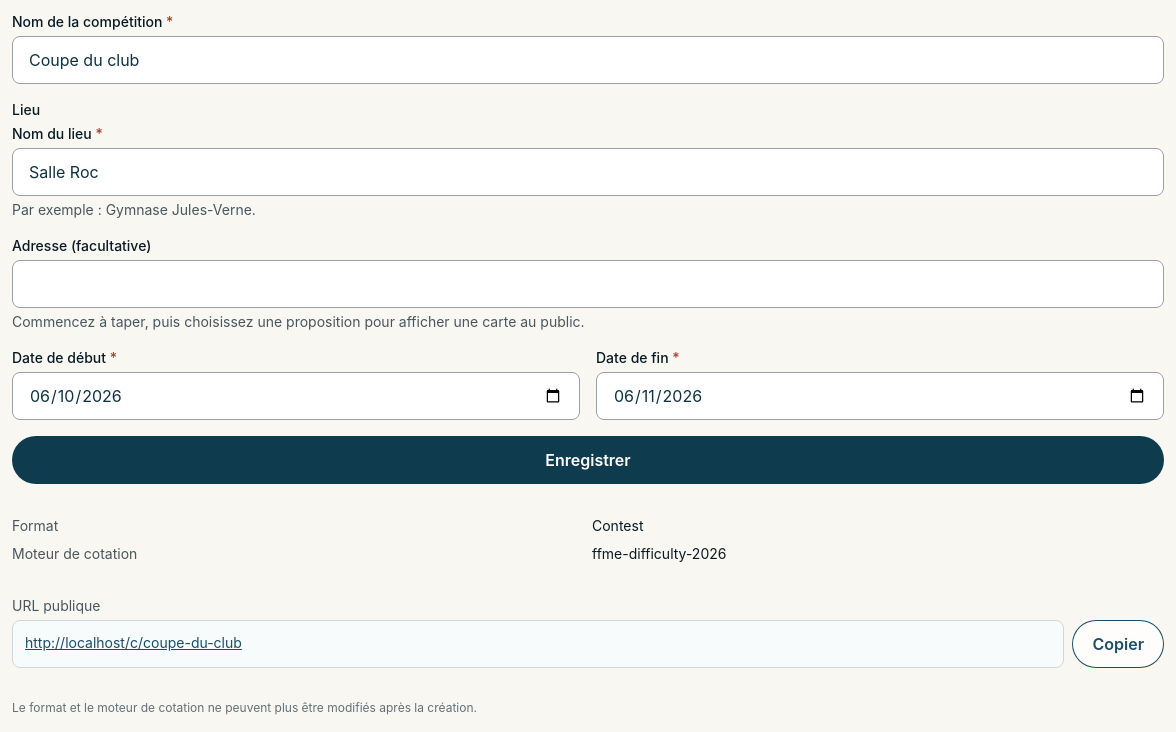
Scenario: InfosTab — date de fin › suit la date de début quand celle-ci change
Type "2026-07-04" into the date field labelled "Date de début *".
click(296, 396); type("2026-07-04")  # box [12,372,580,420]
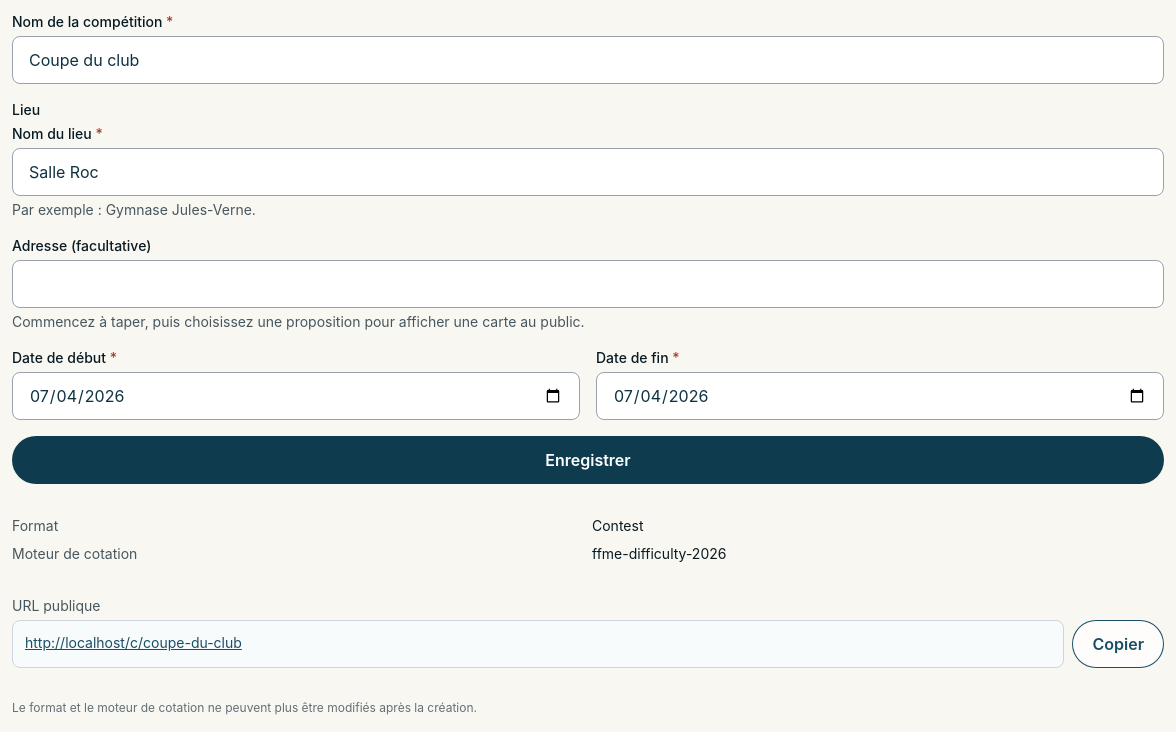
Result: the date field labelled "Date de fin *" holds "2026-07-04" at [596,372,1164,420]
